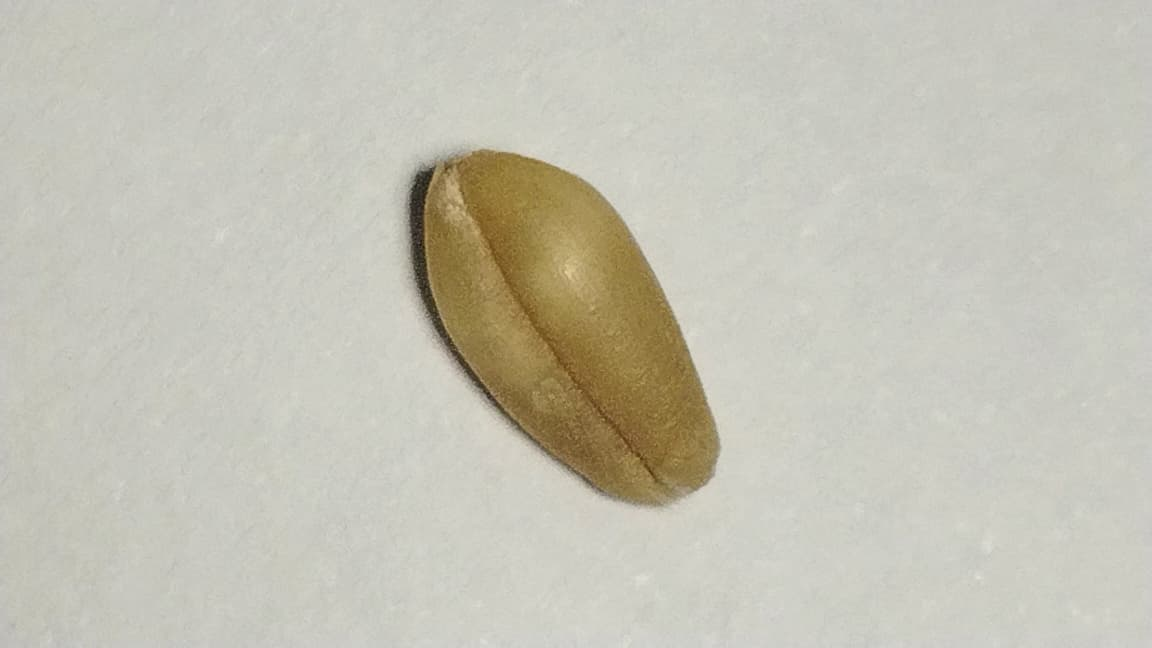healthy: (424, 151, 717, 502)
